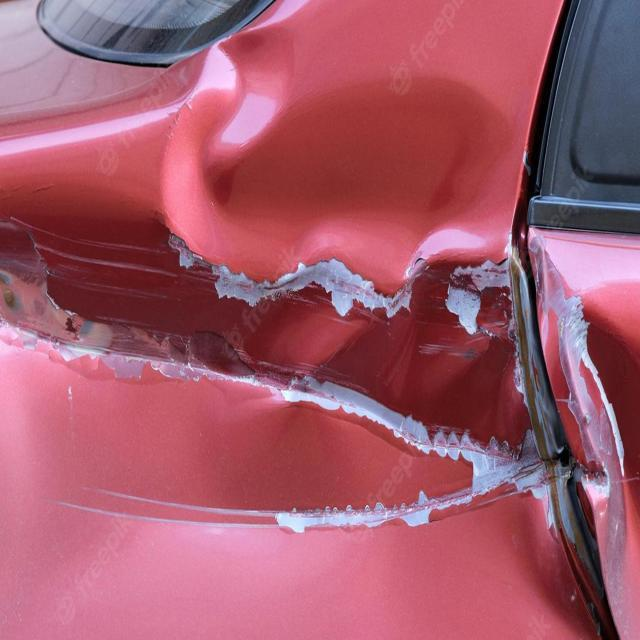dent: (7, 180, 640, 633), (160, 7, 302, 226)
